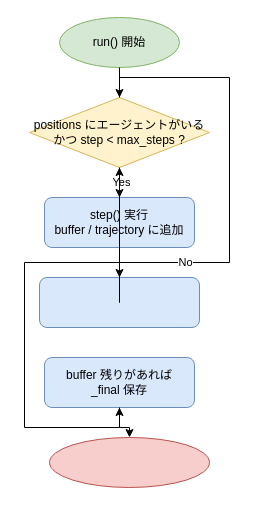
The diagram is 255 pixels wide and 505 high, and some of its shapes have lost their labels. The shapes that lost their labels are listed below. From the top down, each one's centre as x and y in pixels, then its label:
At point (119, 302): "save_prefix かつ step % interval == 0 → 保存".
At point (129, 462): "return step または (step, trajectory)".
